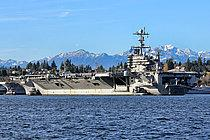MIL_Ship: (31, 26, 199, 96)
